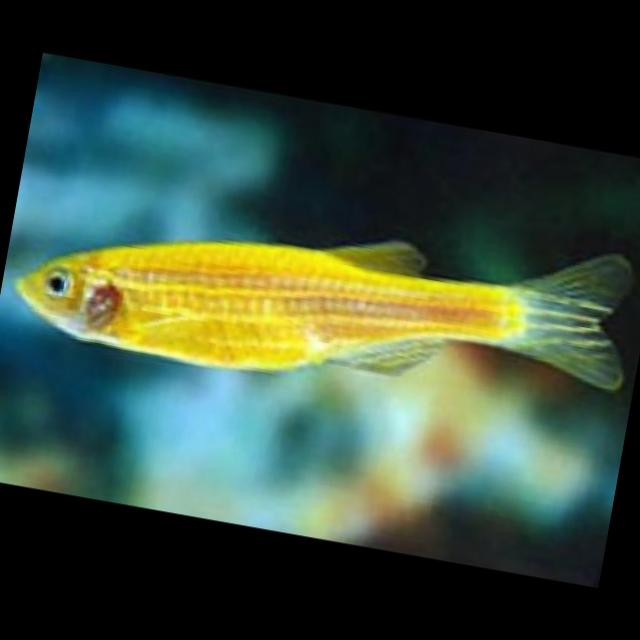ZebraFish: (11, 148, 640, 436)
